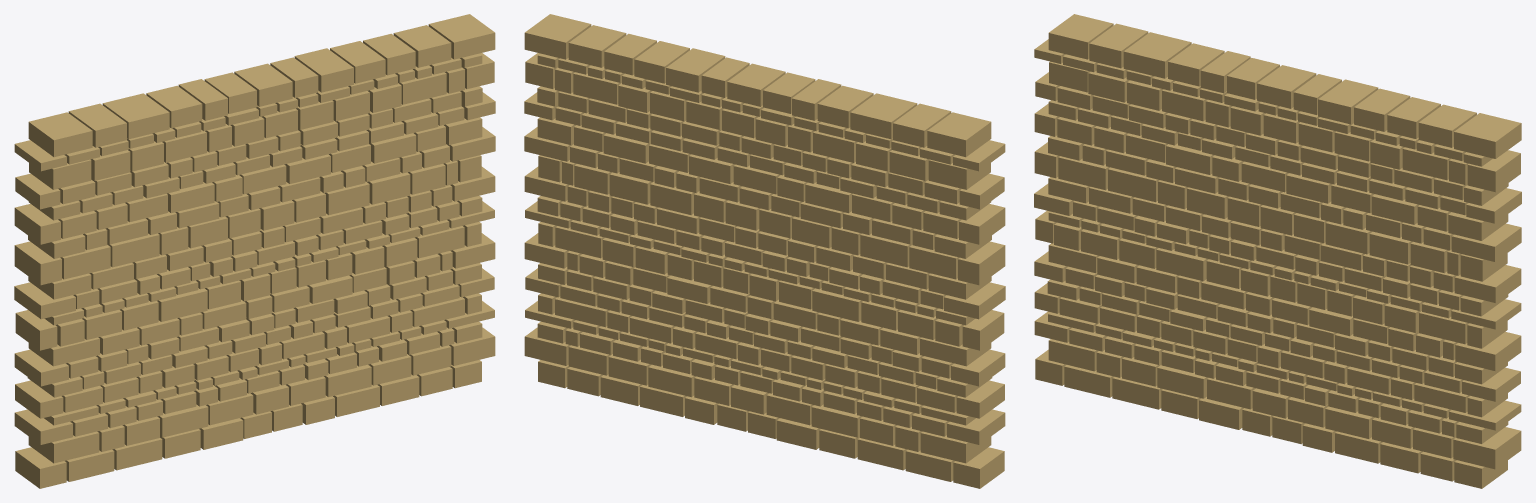
File: Wall.fbx
3 renders of one model, left to right at view 1: azimuth 30°, elevation 25°; view 2: azimuth 150°, elevation 25°; view 3: azimuth 330°, elevation 25°, orthographic.
Visible parts, largest first — view 1: Wall; view 2: Wall; view 3: Wall.
Part boxes in pixels (left/top/right/bottom): Wall: left=14, top=14, right=495, bottom=488; Wall: left=524, top=14, right=1005, bottom=488; Wall: left=1034, top=14, right=1521, bottom=488.
Bounding box in the file's own units: 2051 × 1489 × 210.
